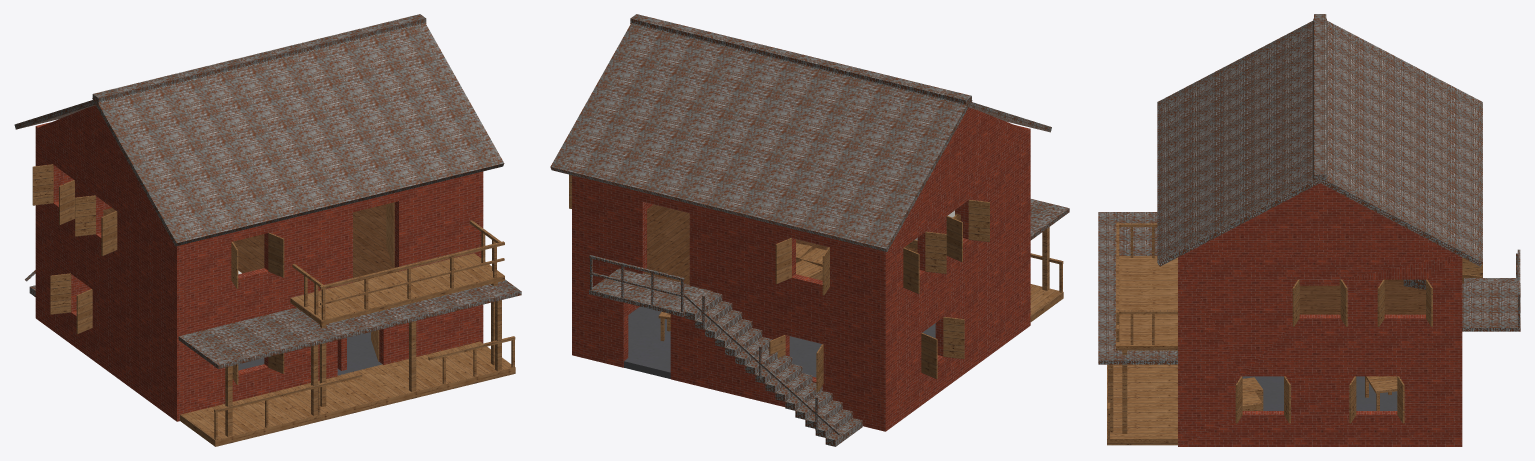
The model's file is house_tactical.glb.
3 views of the same model, side by side, from view 1: azimuth 30°, elevation 25°; view 2: azimuth 150°, elevation 25°; view 3: azimuth 270°, elevation 25° (orthographic). The views are drawn at different scales.
Parts seen in each view (by area): view 1: HouseTactical; view 2: HouseTactical; view 3: HouseTactical.
Boxes of the visible parts, bbox=[...] form: HouseTactical: bbox=[14, 14, 521, 446]; HouseTactical: bbox=[550, 14, 1069, 446]; HouseTactical: bbox=[1098, 14, 1520, 446].
Size of the model in its own units: 11.17 by 8.63 by 11.9.
7 materials, 5 textured.
